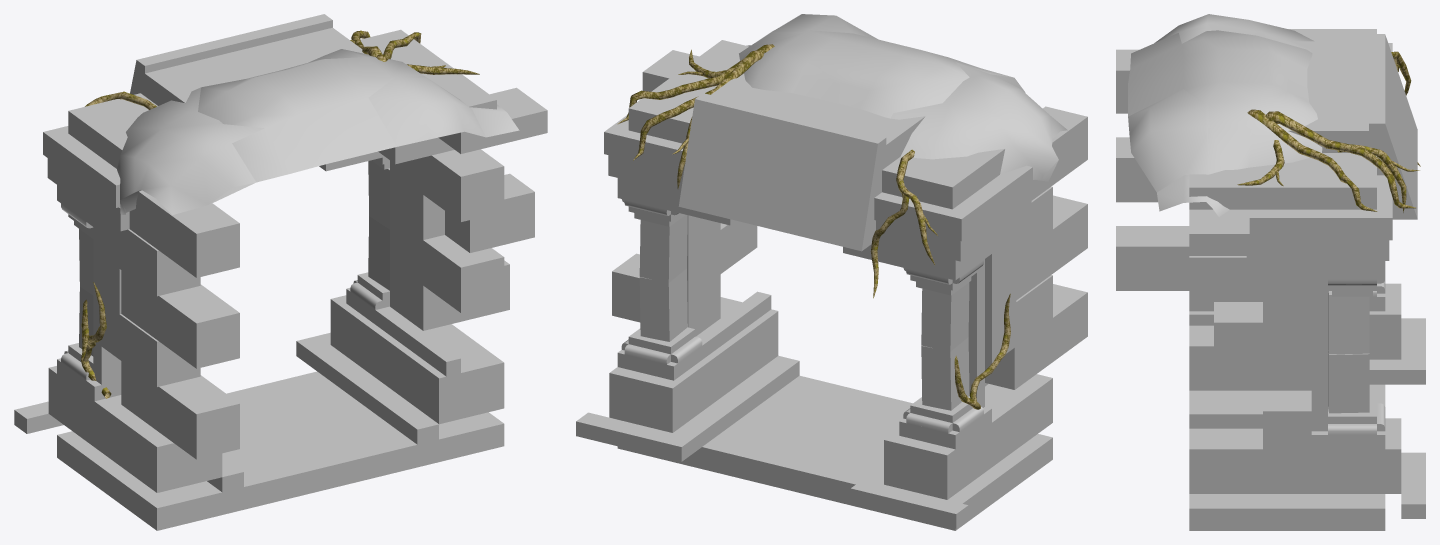
Rendered from Jungle_Doors.fbx.
The picture shows the model from 3 angles, left to right: view 1: azimuth 30°, elevation 25°; view 2: azimuth 150°, elevation 25°; view 3: azimuth 270°, elevation 25°; orthographic projection. The views are drawn at different scales.
Visible parts, largest first — view 1: Door_A, Door_B; view 2: Door_A, Door_B; view 3: Door_A, Door_B.
Part boxes in pixels (bbox=[...]): Door_A: bbox=[14, 14, 547, 530]; Door_B: bbox=[85, 14, 485, 215]; Door_A: bbox=[576, 30, 1087, 530]; Door_B: bbox=[633, 14, 1067, 298]; Door_A: bbox=[1116, 29, 1425, 530]; Door_B: bbox=[1128, 14, 1420, 216].
Bounding box in the file's own units: 713 × 648 × 475.
